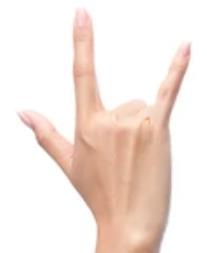back: (16, 8, 190, 225)
